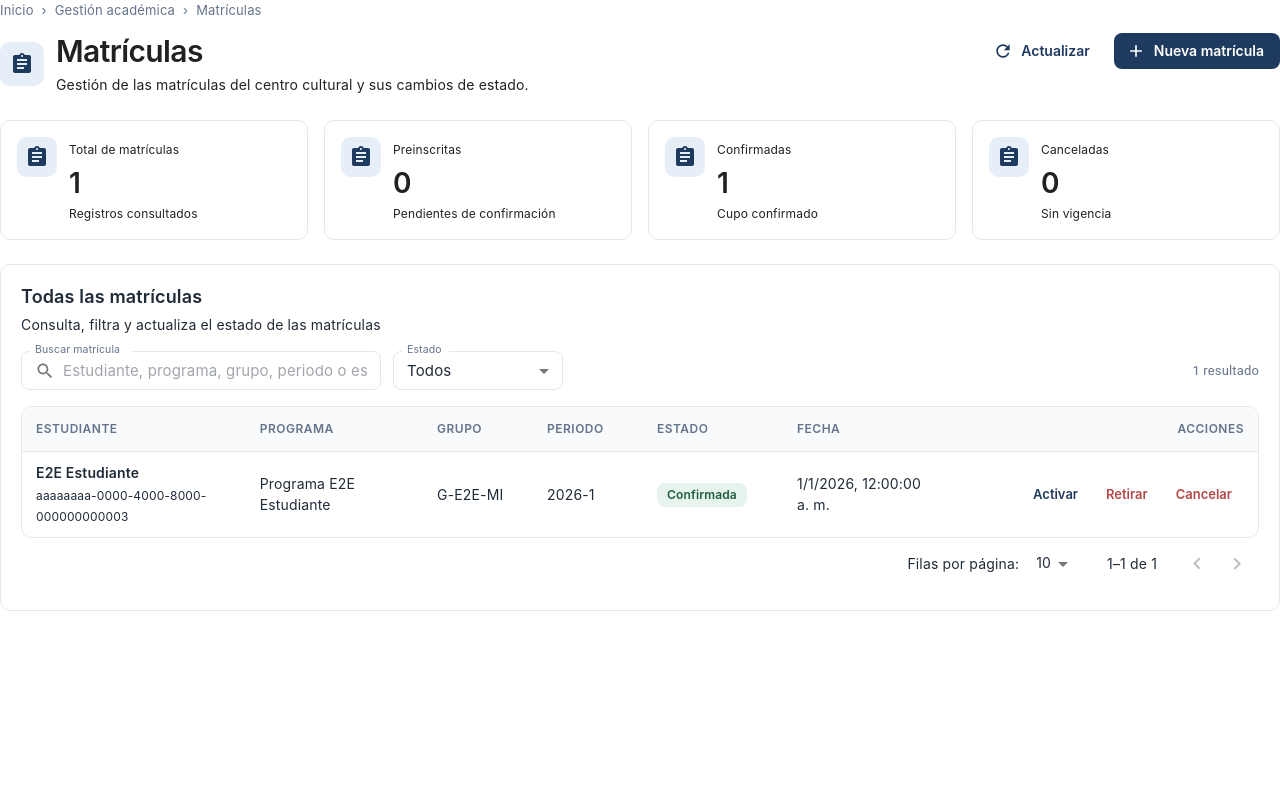
Test: acceso a matrículas según permisos › ejecuta la transición Activar con el endpoint de transiciones
Later steps or results of the test are not shown.
Click the button "Activar".
click(1056, 494)  # box [1021,479,1090,510]
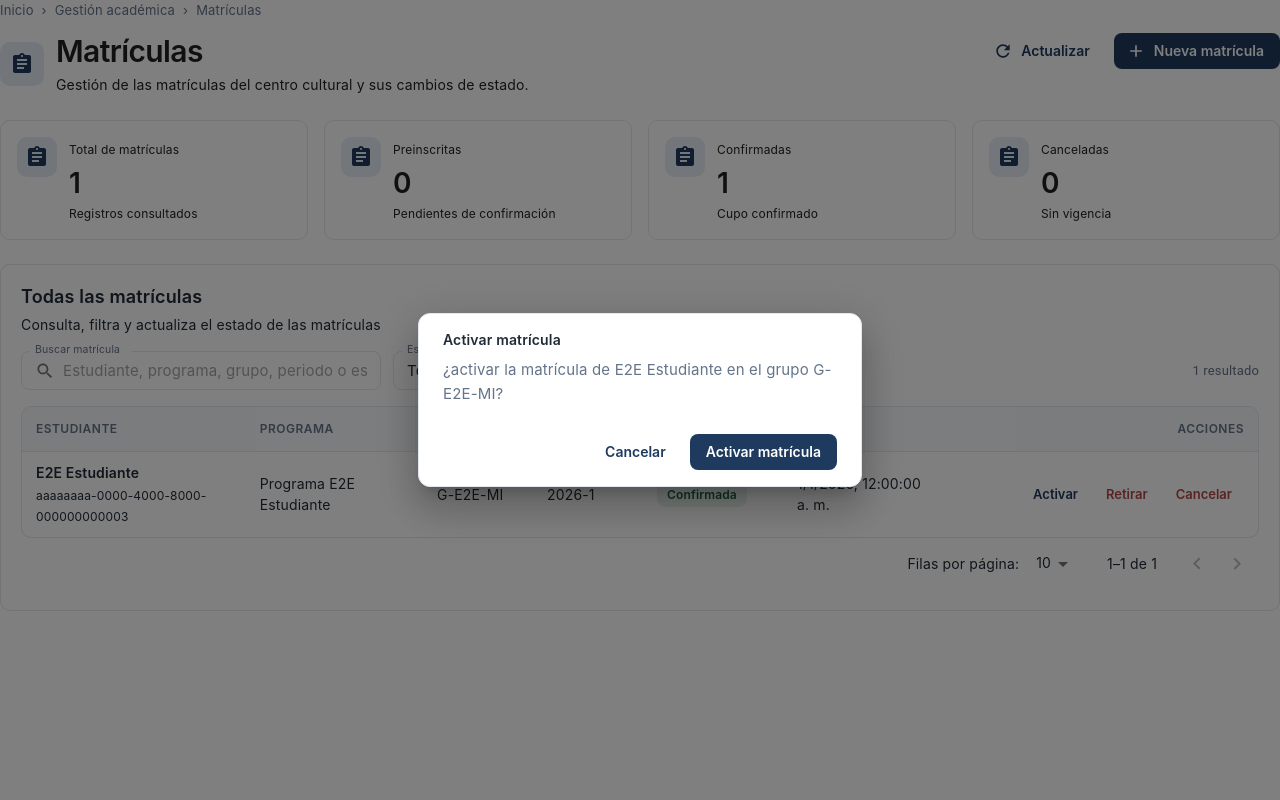
Result: the dialog "Activar matrícula" is shown at [418,313,862,487]
